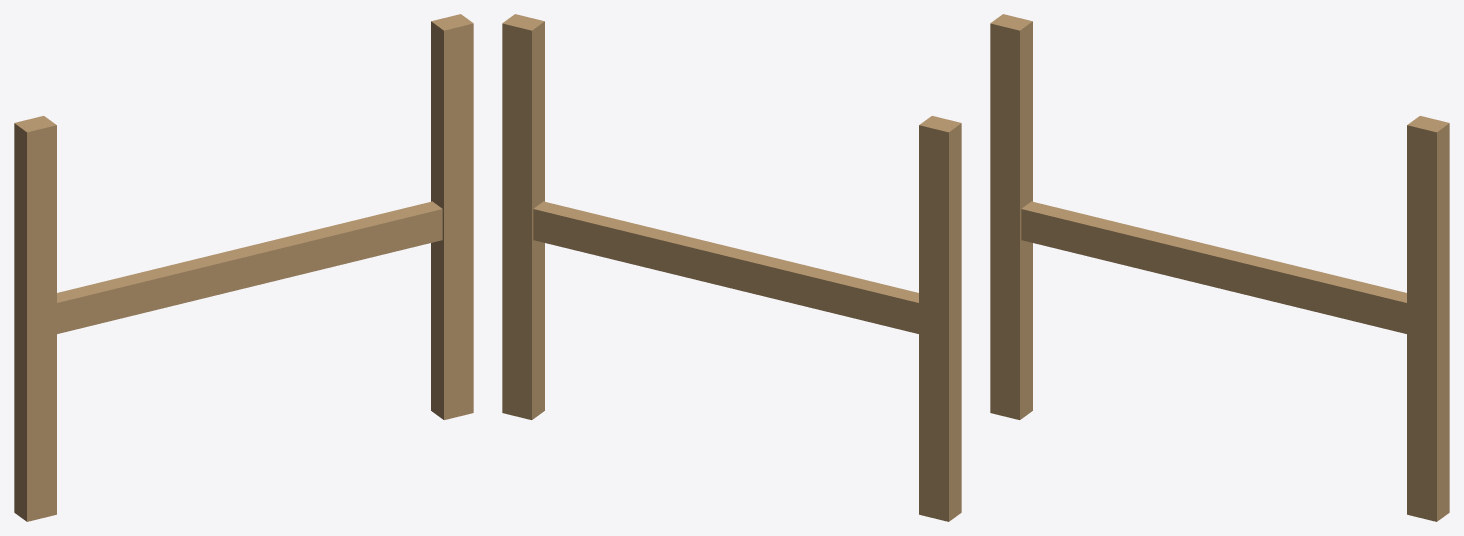
Rendered from prop-bow-saw-frame-bs1.fbx.
3 renders of one model, left to right at view 1: azimuth 30°, elevation 25°; view 2: azimuth 150°, elevation 25°; view 3: azimuth 330°, elevation 25°, orthographic.
Parts seen in each view (by area): view 1: prop-bow-saw-frame-bs1; view 2: prop-bow-saw-frame-bs1; view 3: prop-bow-saw-frame-bs1.
Part boxes in pixels (left/top/right/bottom): prop-bow-saw-frame-bs1: left=14, top=14, right=473, bottom=521; prop-bow-saw-frame-bs1: left=502, top=14, right=961, bottom=521; prop-bow-saw-frame-bs1: left=990, top=14, right=1449, bottom=521.
Size of the model in its own units: 60 by 50 by 3.
